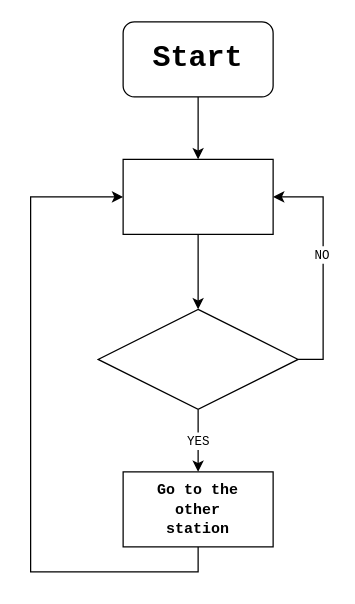
The diagram is 355 pixels wide and 604 high, and some of its shapes have lost their labels. Each missing label, with the centre of its shape:
"Recieved input from user" goes at pixel 197 358.
"Waiting at the Station" goes at pixel 197 196.
